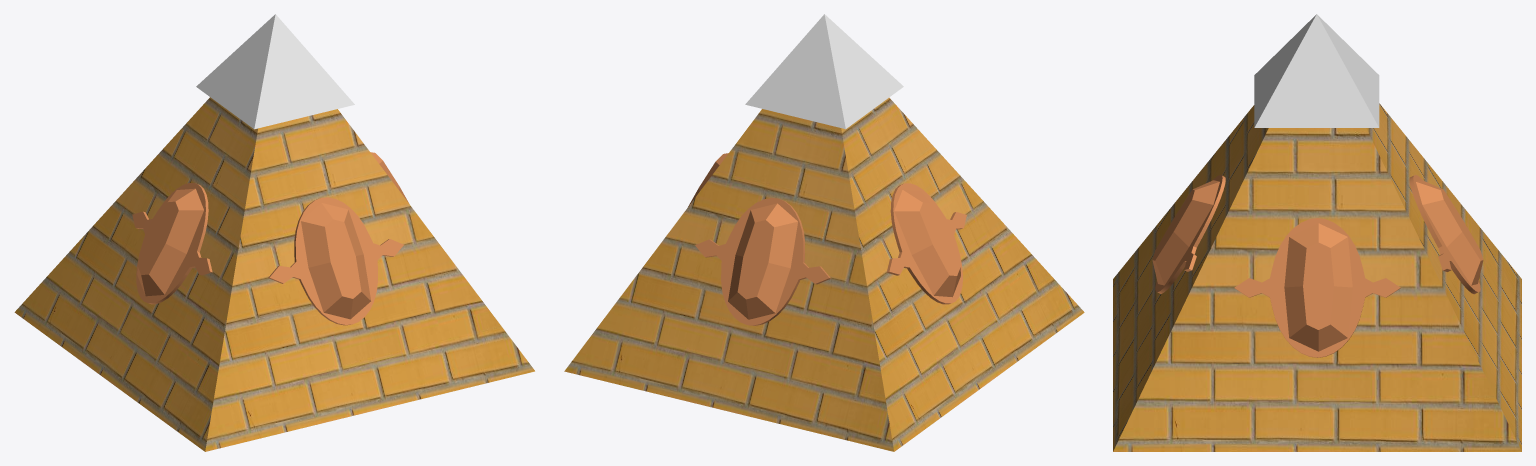
The model's file is superpiramide.FBX.
3 views of the same model, side by side, from view 1: azimuth 30°, elevation 25°; view 2: azimuth 150°, elevation 25°; view 3: azimuth 270°, elevation 25° (orthographic). The views are drawn at different scales.
Parts seen in each view (by area): view 1: Pyramid001, Pyramid002, Plane001, Plane003, Object001, Object003; view 2: Pyramid001, Pyramid002, Plane002, Plane003, Object002, Object003; view 3: Pyramid001, Pyramid002, Plane004, Object004, Plane002, Plane001, Object002, Object001.
Part boxes in pixels (x1=…): Pyramid001: x1=14, y1=97, x2=534, y2=451; Pyramid002: x1=196, y1=14, x2=354, y2=129; Plane001: x1=301, y1=203, x2=370, y2=319; Plane003: x1=137, y1=188, x2=203, y2=296; Object001: x1=268, y1=197, x2=403, y2=325; Object003: x1=132, y1=183, x2=212, y2=304; Pyramid001: x1=564, y1=97, x2=1084, y2=451; Pyramid002: x1=745, y1=14, x2=903, y2=129; Plane002: x1=728, y1=203, x2=797, y2=319; Plane003: x1=894, y1=189, x2=960, y2=297; Object002: x1=695, y1=198, x2=830, y2=325; Object003: x1=886, y1=183, x2=966, y2=304; Pyramid001: x1=1113, y1=103, x2=1521, y2=451; Pyramid002: x1=1254, y1=14, x2=1379, y2=127; Plane004: x1=1284, y1=223, x2=1352, y2=351; Object004: x1=1234, y1=218, x2=1400, y2=357; Plane002: x1=1416, y1=180, x2=1483, y2=285; Plane001: x1=1152, y1=180, x2=1219, y2=285; Object002: x1=1409, y1=175, x2=1480, y2=294; Object001: x1=1155, y1=175, x2=1225, y2=293.
Bounding box in the file's own units: 151 × 143 × 151.
